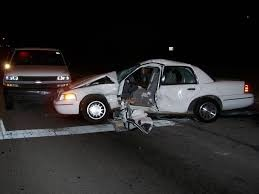Smashed: (111, 62, 167, 128)
